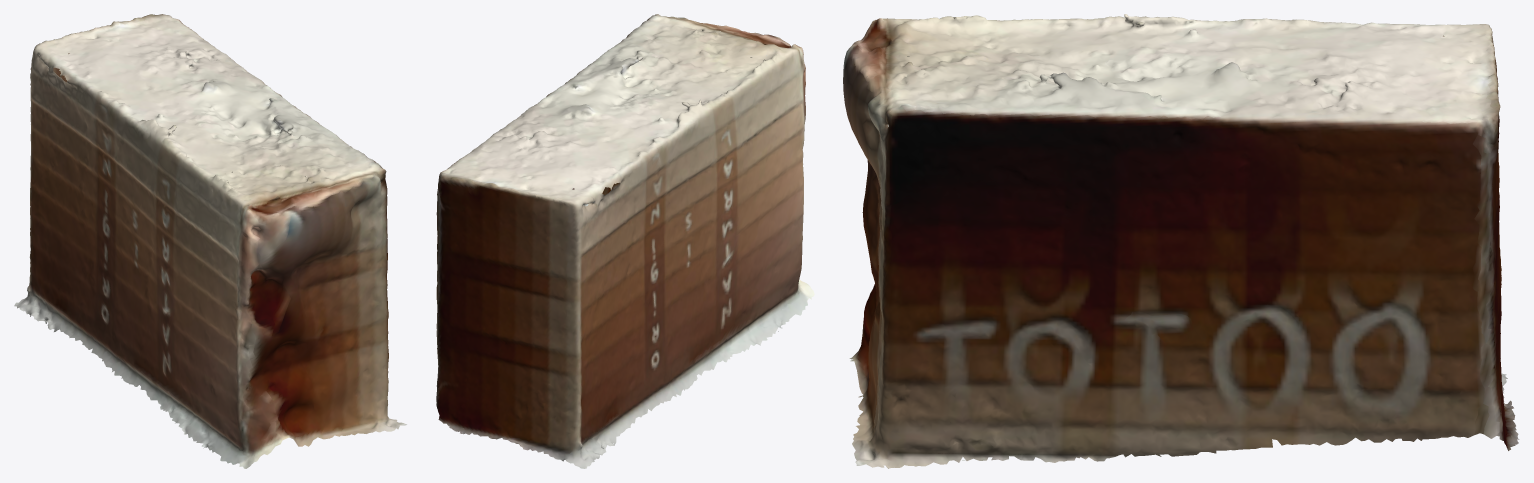
Rendered from soap_box.gltf.
The picture shows the model from 3 angles, left to right: view 1: azimuth 30°, elevation 25°; view 2: azimuth 150°, elevation 25°; view 3: azimuth 270°, elevation 25°; orthographic projection. The views are drawn at different scales.
Parts seen in each view (by area): view 1: model; view 2: model; view 3: model.
Boxes of the visible parts, x1,y1,x2,y2 form: model: (14,14,406,468); model: (436,14,814,468); model: (843,14,1519,468).
Bounding box in the file's own units: 0.9073 × 1.42 × 2.3.
2 materials, 2 textured.
